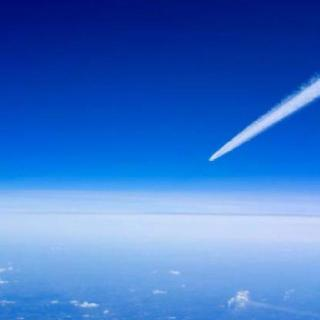Contrails: (203, 70, 320, 173)
